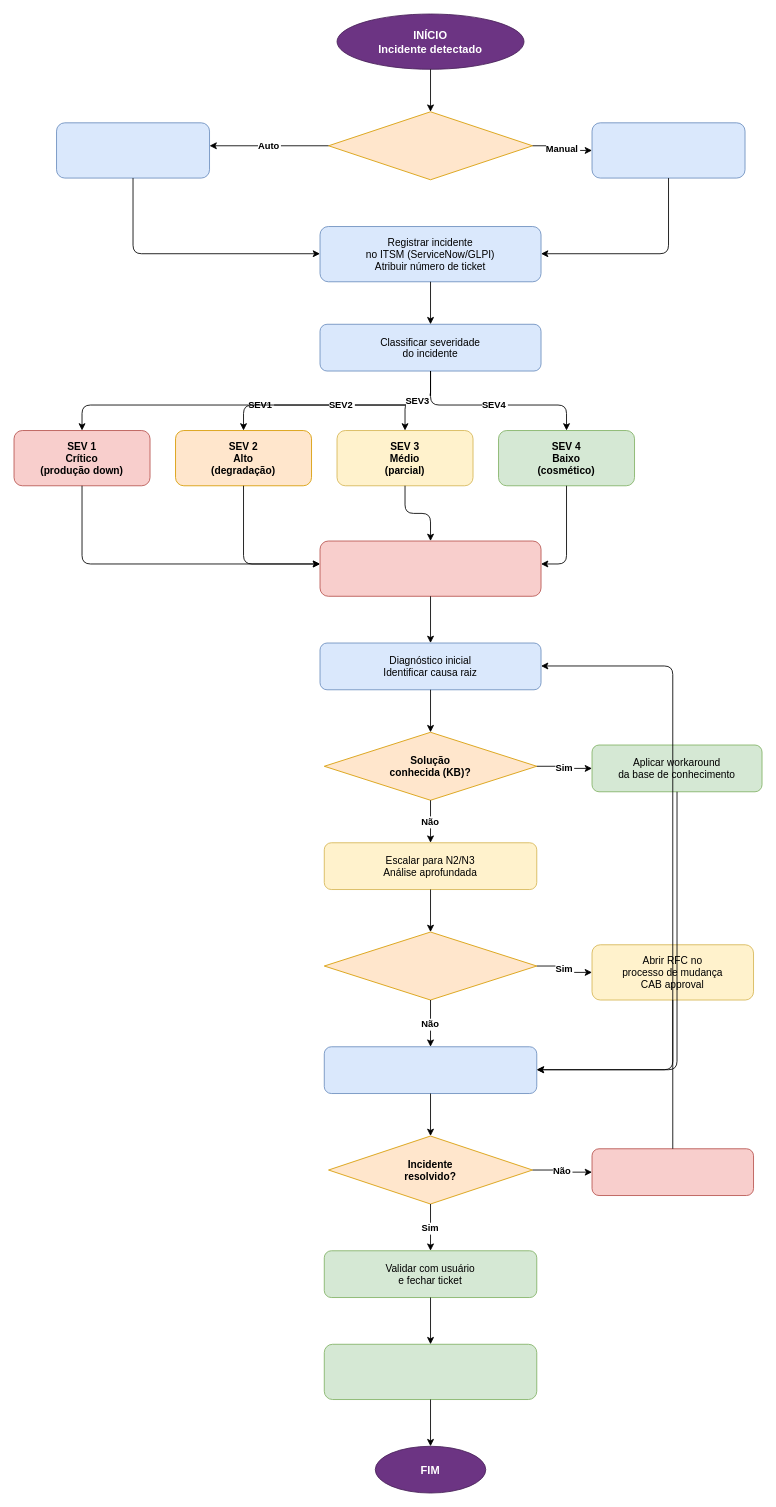
The diagram is 776 pixels wide and 1507 high, and some of its shapes have lost their labels. Here are the shapes that lost their labels. From the top down, the centre of each, then its label:
pixel 133 150: Monitoramento automatizado (Zabbix/Grafana)
pixel 430 145: Origem do alerta?
pixel 668 150: Chamado usuário (Service Desk)
pixel 430 568: War Room: acionar N3 + Gerente + Área negócio SLA: 15 min resposta
pixel 430 965: Necessita Change Request?
pixel 430 1070: Implementar solução em produção
pixel 672 1172: Reiniciar diagnóstico com nova hipótese
pixel 430 1371: Elaborar RCA (Root Cause Analysis) e documentar KB
